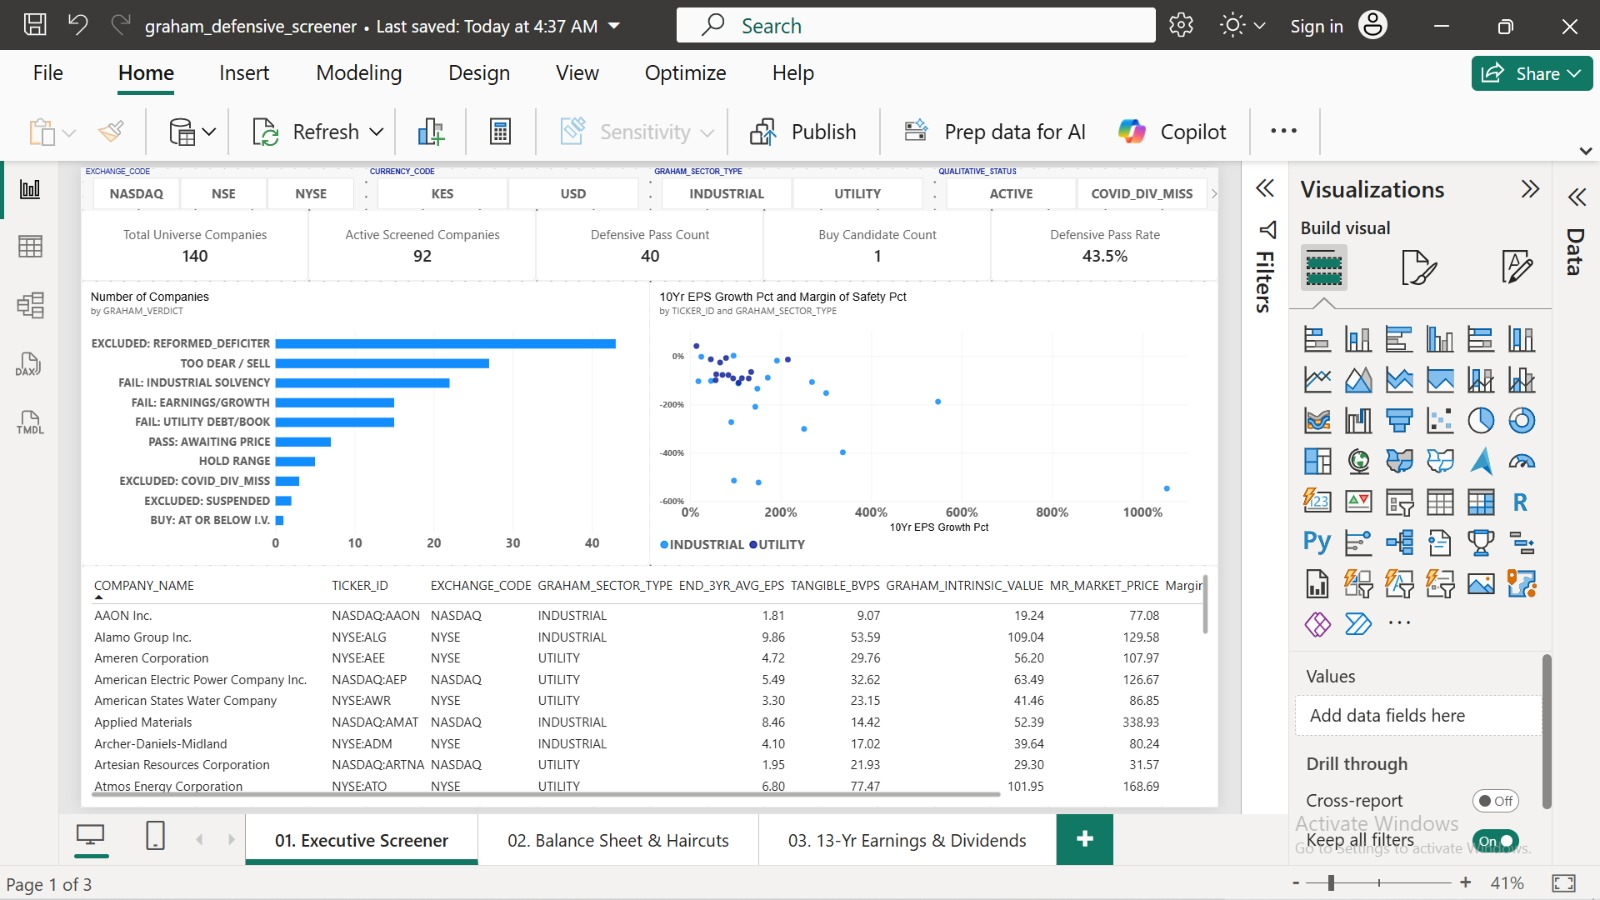

The page's visual inventory and layout, read from the dashboard file:
{"tool":"powerbi","page":{"name":"01. Executive Screener","canvas":[1920,1080],"ordinal":0},"visuals":[{"type":"slicer","fields":{"Values":["dim_company.CURRENCY_CODE"]},"box":[480,0,480,72],"z":0},{"type":"slicer","fields":{"Values":["dim_company.EXCHANGE_CODE"]},"box":[0,0,480,72],"z":1},{"type":"slicer","fields":{"Values":["dim_graham_rules.GRAHAM_SECTOR_TYPE"]},"box":[960,0,480,72],"z":2},{"type":"slicer","fields":{"Values":["dim_company.QUALITATIVE_STATUS"]},"box":[1440,0,480,72],"z":3},{"type":"cardVisual","fields":{"Data":["_Measures.Total Universe Companies"]},"box":[0,72,384,120],"z":4},{"type":"cardVisual","fields":{"Data":["_Measures.Active Screened Companies"]},"box":[384,72,384,120],"z":5},{"type":"cardVisual","fields":{"Data":["_Measures.Buy Candidate Count"]},"box":[1152,72,384,120],"z":6},{"type":"cardVisual","fields":{"Data":["_Measures.Defensive Pass Count"]},"box":[768,72,384,120],"z":7},{"type":"cardVisual","fields":{"Data":["_Measures.Defensive Pass Rate"]},"box":[1536,72,384,120],"z":8},{"type":"clusteredBarChart","fields":{"Category":["vw_graham_valuation_matrix.GRAHAM_VERDICT"],"Y":["CountNonNull(vw_graham_valuation_matrix.TICKER_ID)"]},"box":[0,192,960,480],"z":9},{"type":"scatterChart","fields":{"Category":["dim_company.TICKER_ID"],"Series":["dim_graham_rules.GRAHAM_SECTOR_TYPE"],"X":["_Measures.10Yr EPS Growth Pct"],"Y":["_Measures.Margin of Safety Pct"]},"box":[960,192,960,480],"z":10},{"type":"tableEx","fields":{"Values":["vw_graham_valuation_matrix.COMPANY_NAME","vw_graham_valuation_matrix.TICKER_ID","vw_graham_valuation_matrix.EXCHANGE_CODE","vw_graham_valuation_matrix.GRAHAM_SECTOR_TYPE","vw_graham_valuation_matrix.END_3YR_AVG_EPS","vw_graham_valuation_matrix.TANGIBLE_BVPS","vw_graham_valuation_matrix.GRAHAM_INTRINSIC_VALUE","vw_graham_valuation_matrix.MR_MARKET_PRICE","_Measures.Margin of Safety Pct","vw_graham_valuation_matrix.GRAHAM_VERDICT"]},"box":[0,672,1920,408],"z":11}]}

Visuals, with their boxes on the page's 1920x1080 design canvas (x1, y1, x2, y2). These are canvas units, not pixel positions in the 1600x900 screenshot, which may show the page scaled, cropped or inside an application window:
slicer - dim_company.CURRENCY_CODE: [left=480, top=0, right=960, bottom=72]
slicer - dim_company.EXCHANGE_CODE: [left=0, top=0, right=480, bottom=72]
slicer - dim_graham_rules.GRAHAM_SECTOR_TYPE: [left=960, top=0, right=1440, bottom=72]
slicer - dim_company.QUALITATIVE_STATUS: [left=1440, top=0, right=1920, bottom=72]
cardVisual - _Measures.Total Universe Companies: [left=0, top=72, right=384, bottom=192]
cardVisual - _Measures.Active Screened Companies: [left=384, top=72, right=768, bottom=192]
cardVisual - _Measures.Buy Candidate Count: [left=1152, top=72, right=1536, bottom=192]
cardVisual - _Measures.Defensive Pass Count: [left=768, top=72, right=1152, bottom=192]
cardVisual - _Measures.Defensive Pass Rate: [left=1536, top=72, right=1920, bottom=192]
clusteredBarChart - vw_graham_valuation_matrix.GRAHAM_VERDICT x CountNonNull(vw_graham_valuation_matrix.TICKER_ID): [left=0, top=192, right=960, bottom=672]
scatterChart - dim_company.TICKER_ID x dim_graham_rules.GRAHAM_SECTOR_TYPE: [left=960, top=192, right=1920, bottom=672]
tableEx - vw_graham_valuation_matrix.COMPANY_NAME x vw_graham_valuation_matrix.TICKER_ID: [left=0, top=672, right=1920, bottom=1080]
